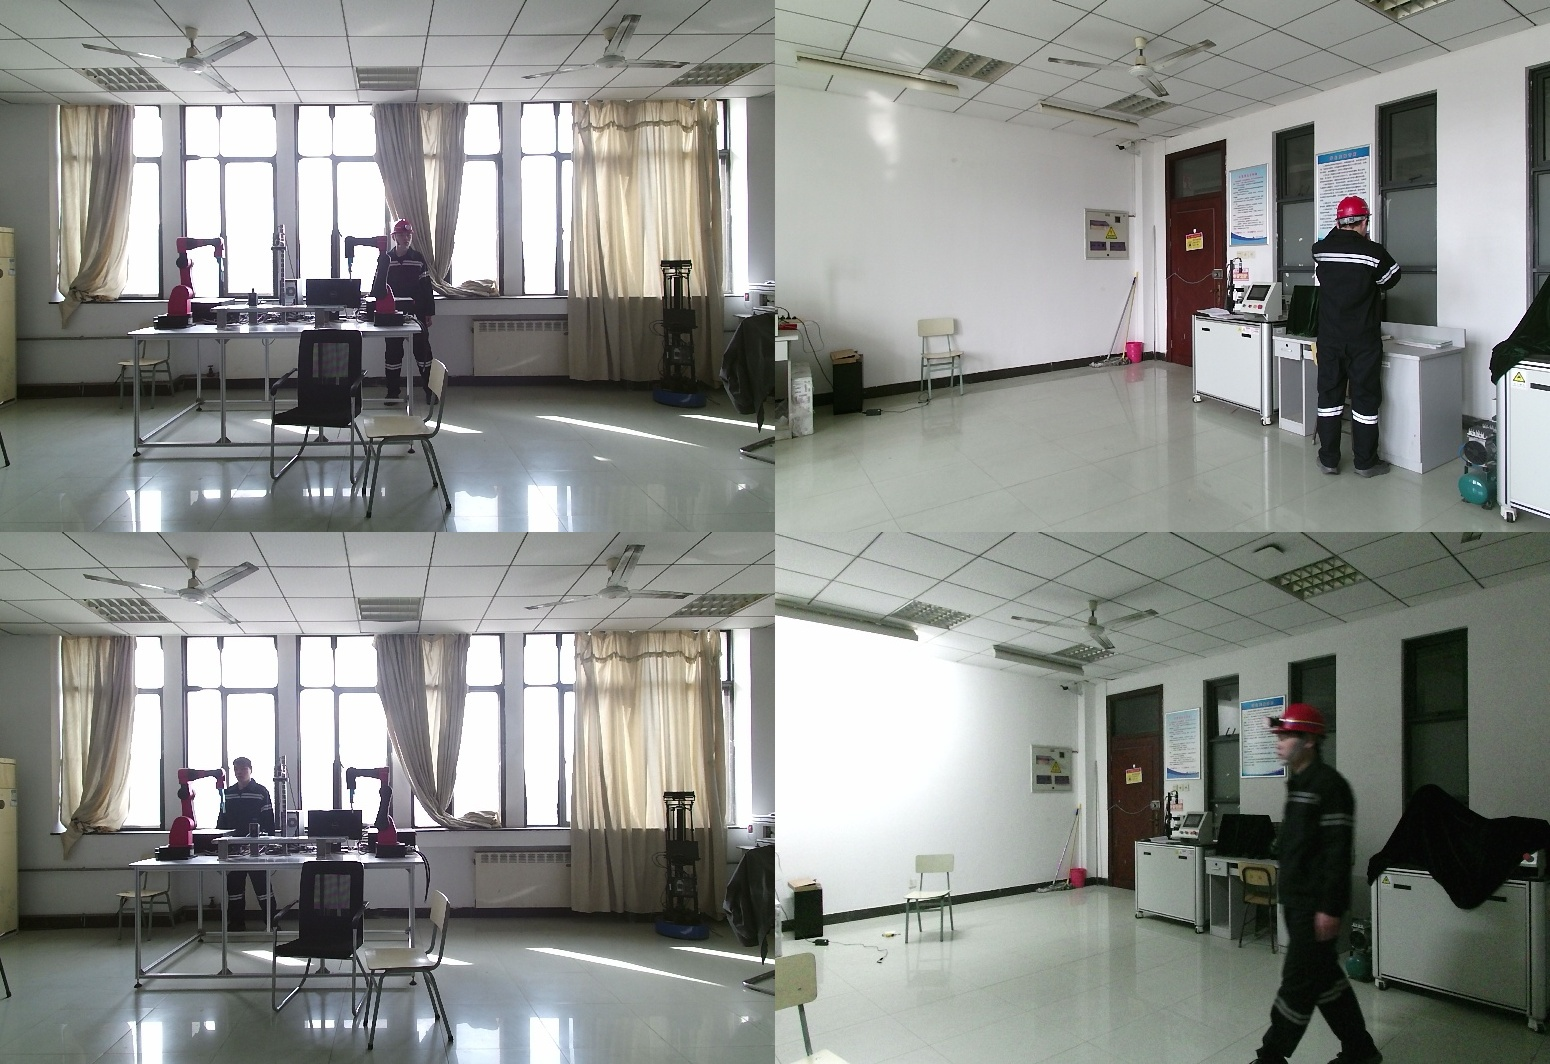person: (1262, 701, 1388, 1064), (1307, 195, 1428, 478), (368, 219, 437, 406), (216, 760, 280, 932)
